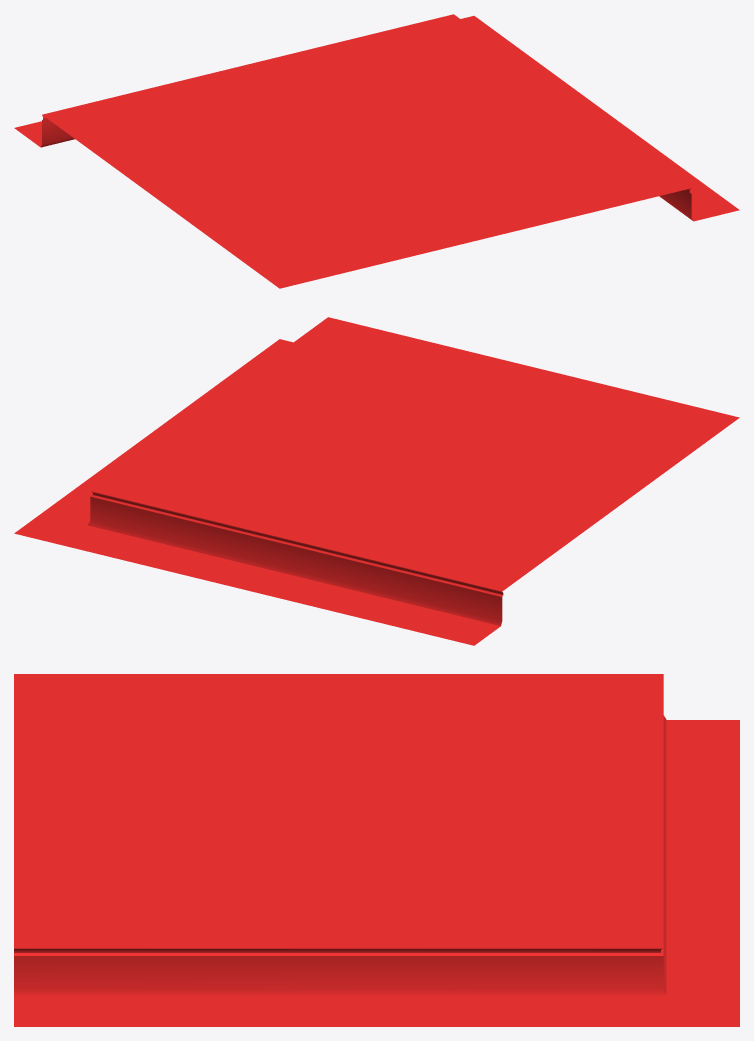
Rendered from Ceil_02.fbx.
The picture shows the model from 3 angles, top to bottom: view 1: azimuth 30°, elevation 25°; view 2: azimuth 150°, elevation 25°; view 3: azimuth 270°, elevation 25°; orthographic projection. The views are drawn at different scales.
Visible parts, largest first — view 1: Ceil_02; view 2: Ceil_02; view 3: Ceil_02.
Boxes of the visible parts, x1,y1,x2,y2 form: Ceil_02: [14, 14, 739, 288]; Ceil_02: [14, 317, 739, 645]; Ceil_02: [14, 674, 739, 1026].
Size of the model in its own units: 200 by 14.01 by 200.
